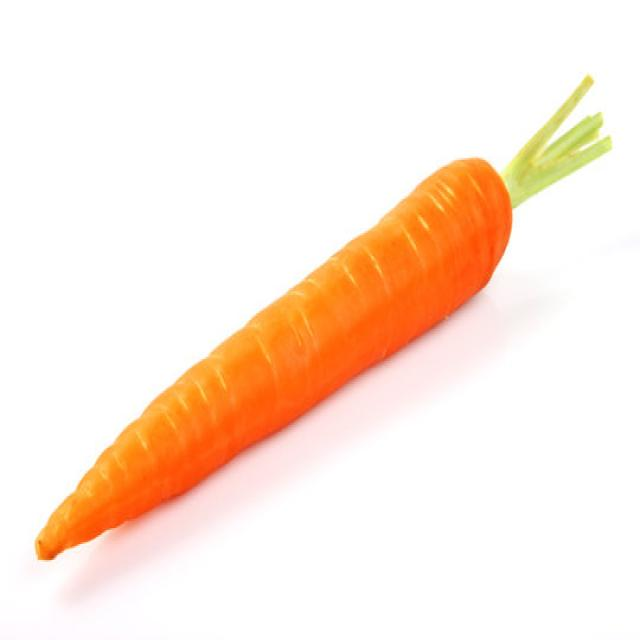Carrot: (33, 71, 612, 562)
